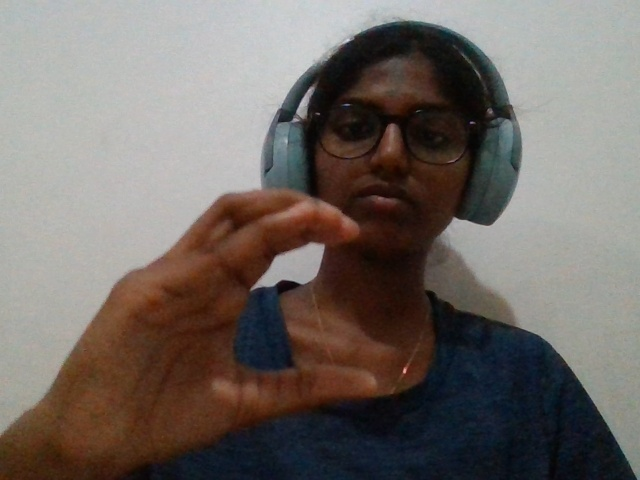C: (6, 160, 414, 480)
